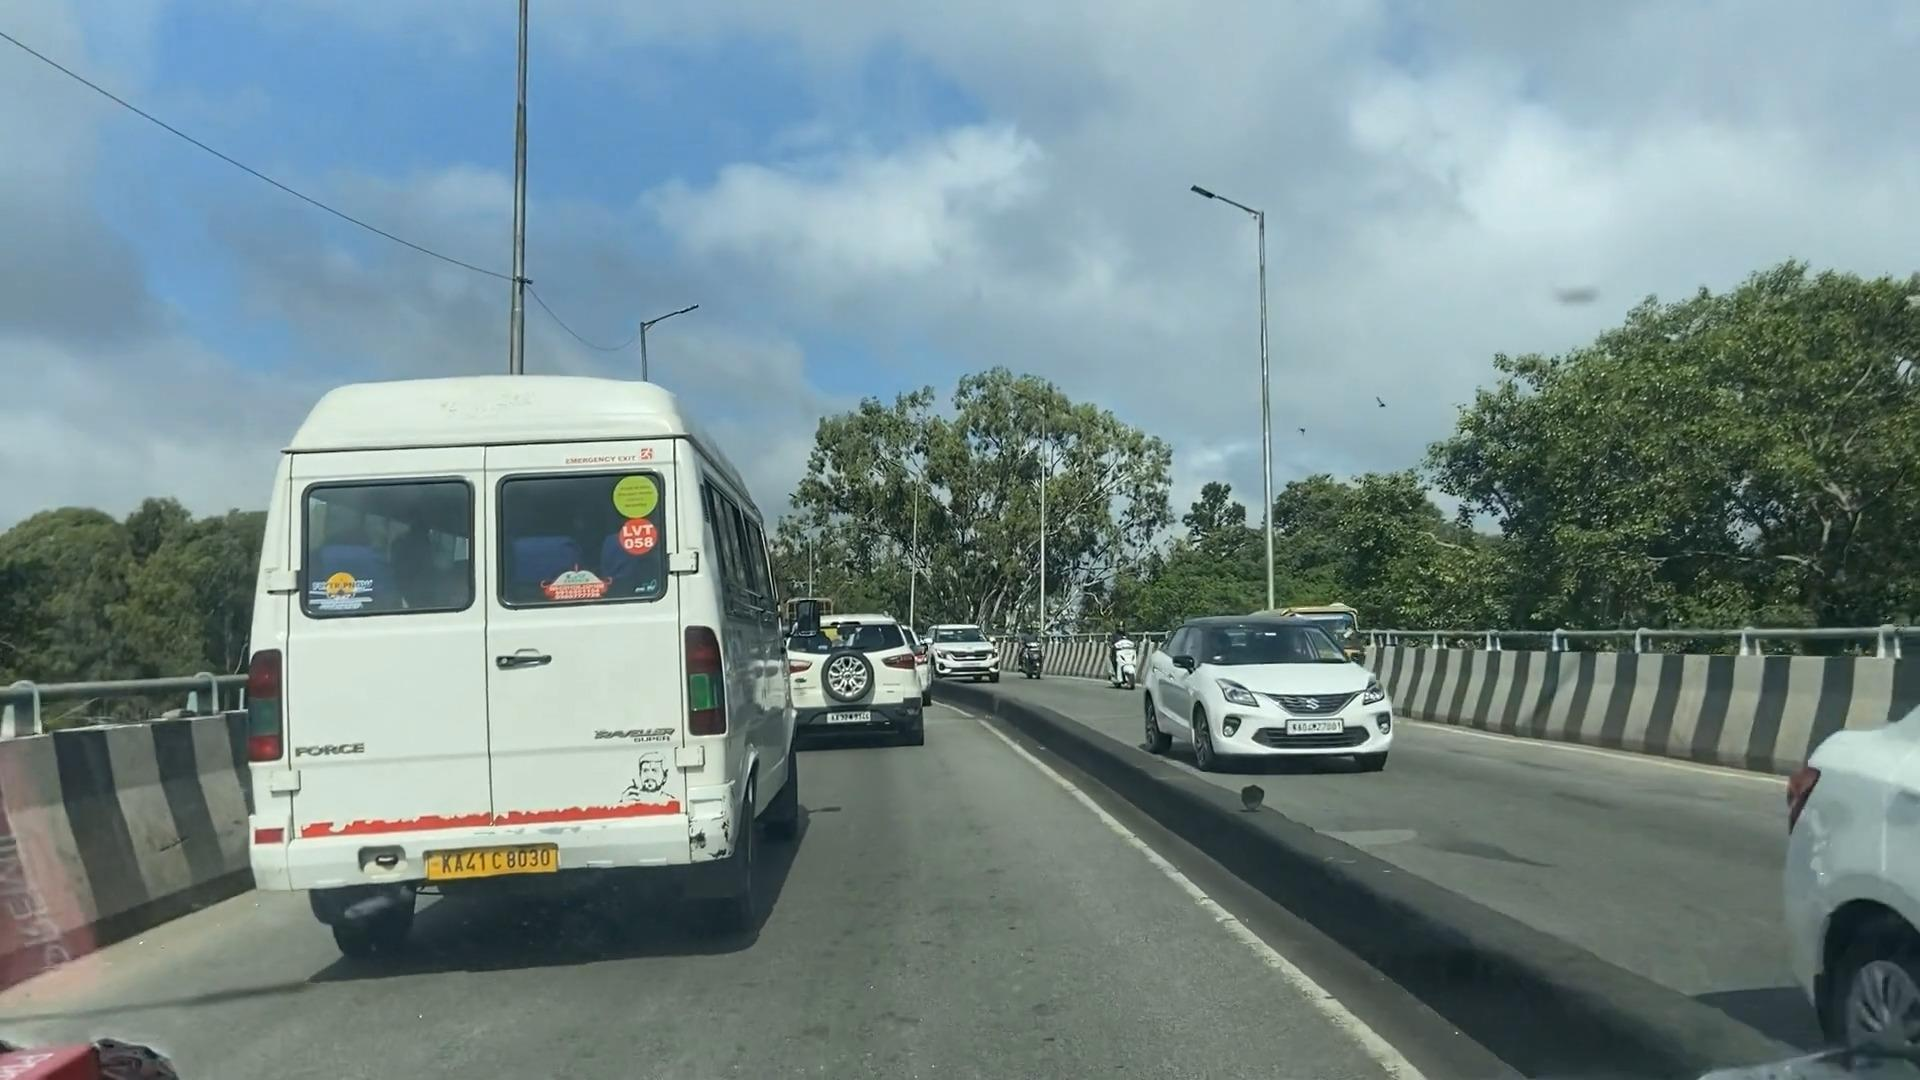HMV: (235, 375, 786, 939)
LMV: (793, 615, 924, 745)
